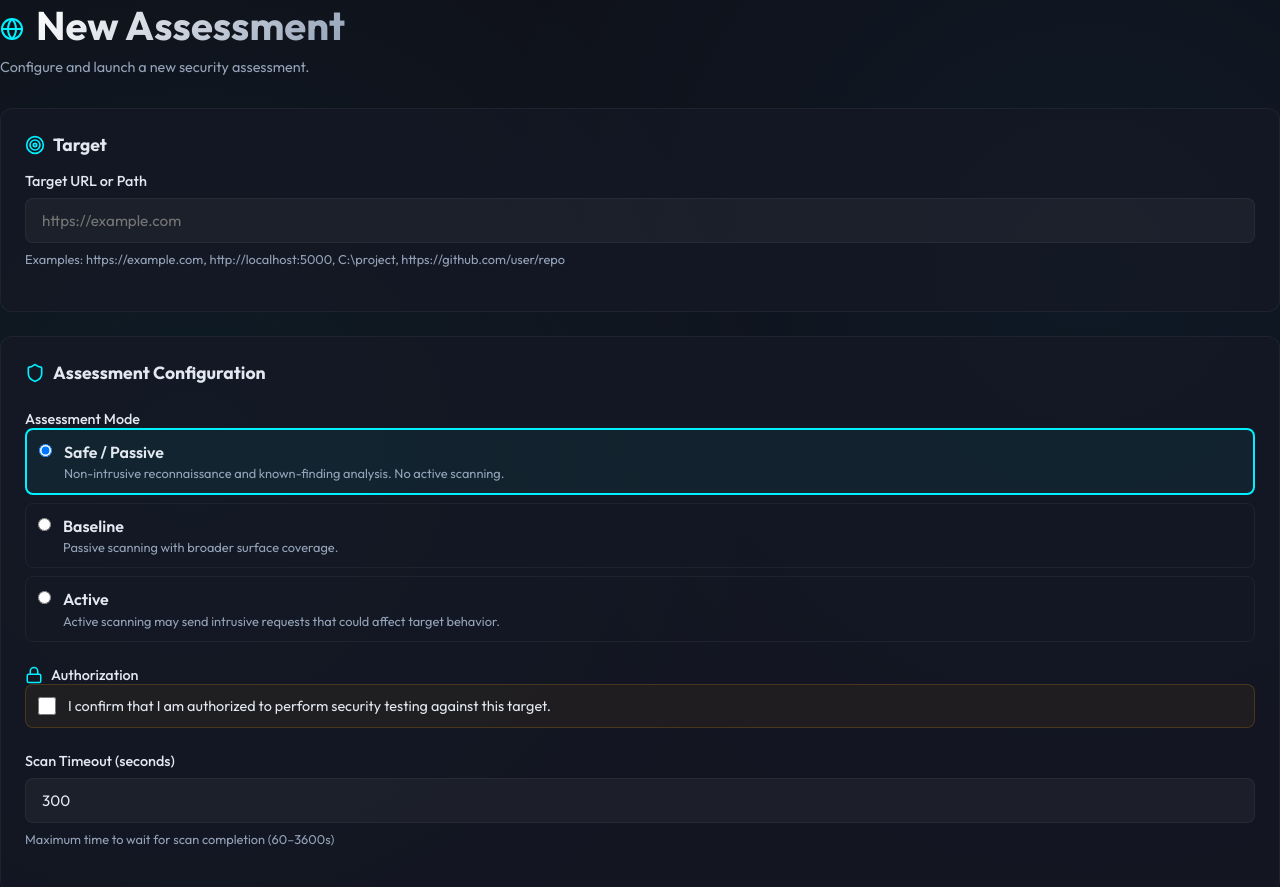
it: NewAssessmentPage › validation errors display for invalid target
Type "not-a-valid-url" into the field with placeholder "https://example.com". click: [640, 220]
box: top-left (25, 198), bottom-right (1255, 243)
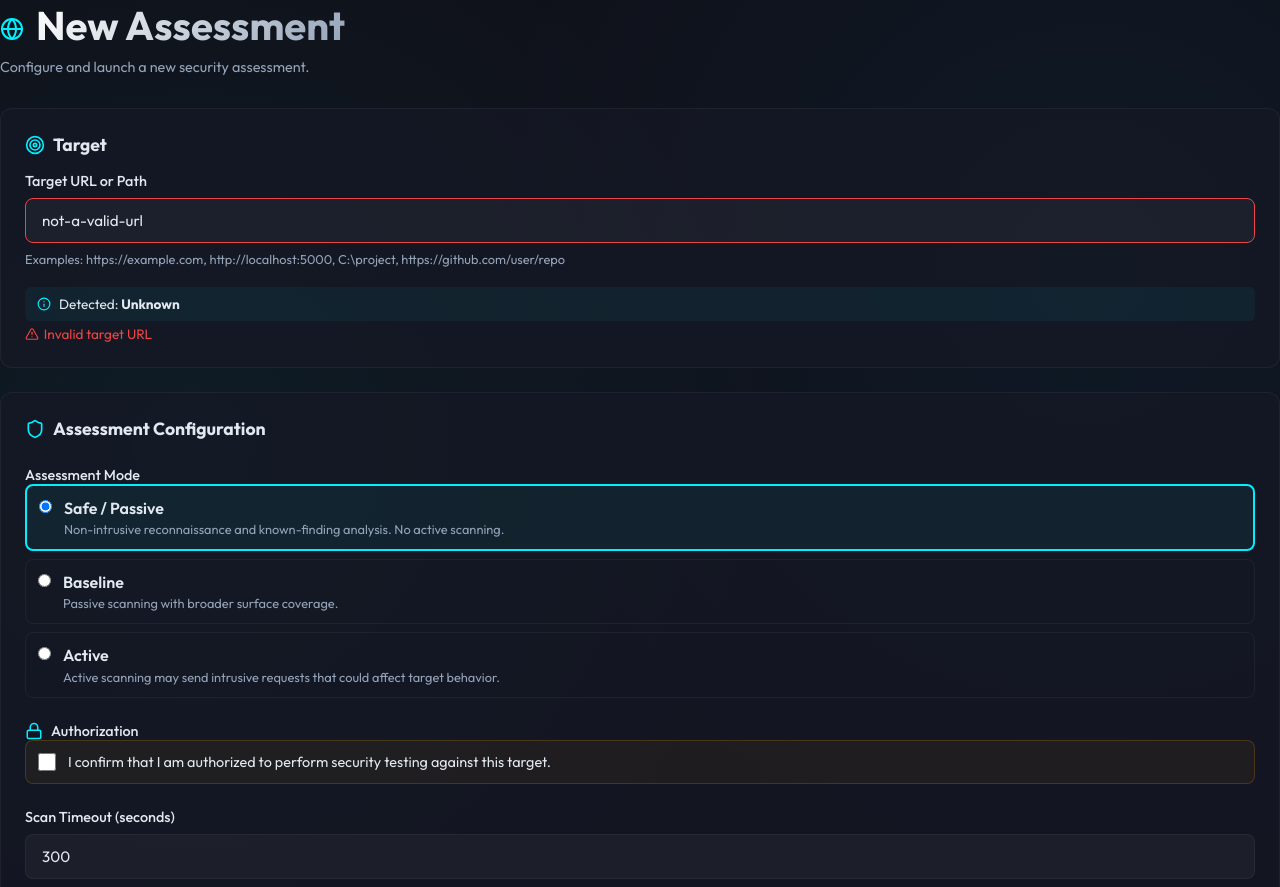
Result: the text "Invalid target URL" is shown at top-left (25, 325), bottom-right (152, 343)
